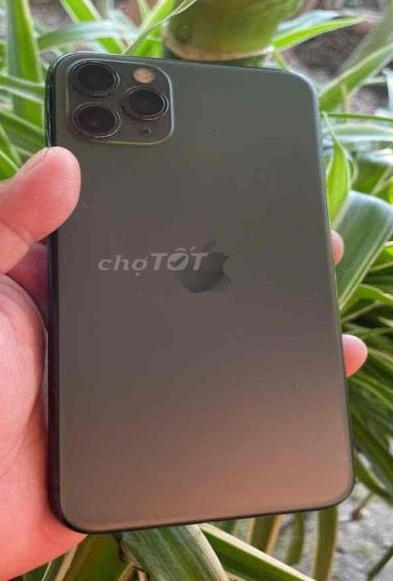scratch: (27, 60, 71, 105), (202, 110, 243, 137), (144, 65, 180, 89)
